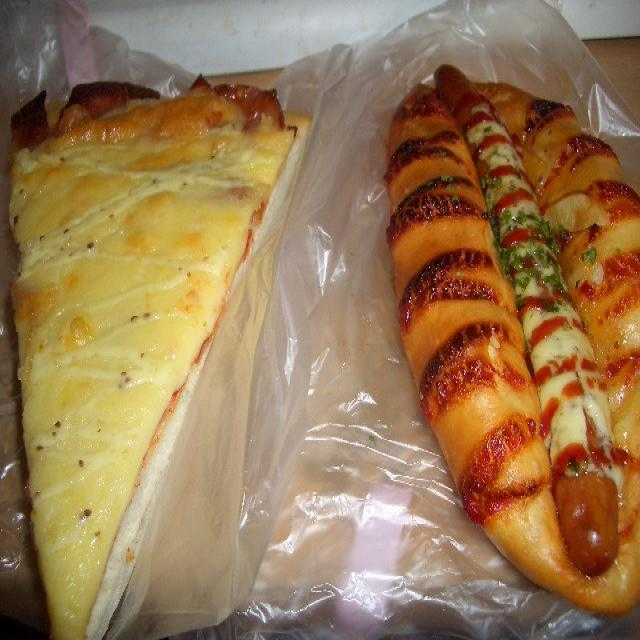Pizza: (13, 57, 299, 640)
